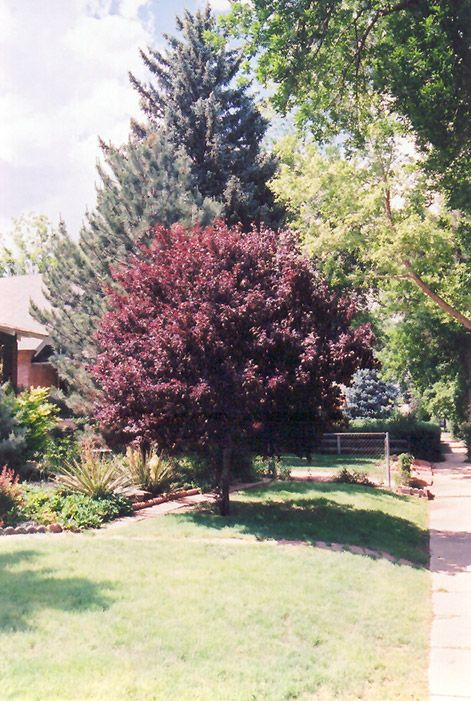tree: (83, 217, 377, 512)
